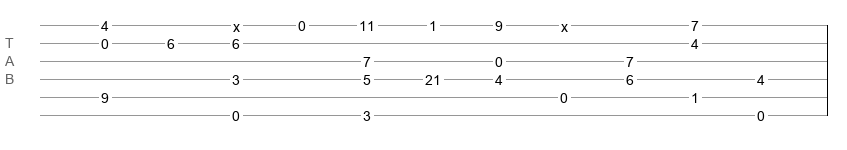0: (101, 36, 109, 46), (232, 108, 240, 118), (298, 18, 306, 28), (495, 54, 503, 64), (560, 90, 568, 100), (757, 108, 765, 118)
1: (429, 18, 437, 28), (691, 90, 699, 100)
11: (359, 18, 375, 28)
21: (425, 72, 441, 82)
3: (232, 72, 240, 82), (363, 108, 371, 118)
4: (101, 18, 109, 28), (495, 72, 503, 82), (691, 36, 699, 46), (757, 72, 765, 82)
5: (363, 72, 371, 82)
6: (167, 36, 175, 46), (232, 36, 240, 46), (626, 72, 634, 82)
7: (363, 54, 371, 64), (626, 54, 634, 64), (691, 18, 699, 28)
9: (101, 90, 109, 100), (495, 18, 503, 28)
x: (233, 19, 240, 27), (561, 19, 568, 27)
